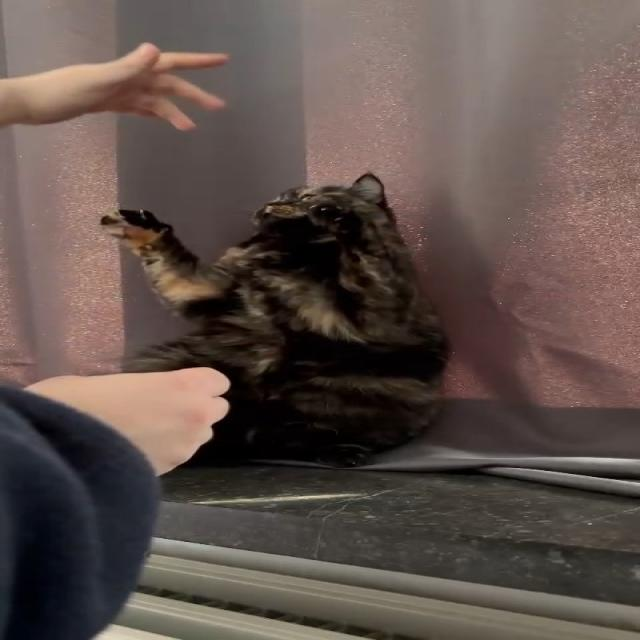authorized: (99, 170, 452, 468)
